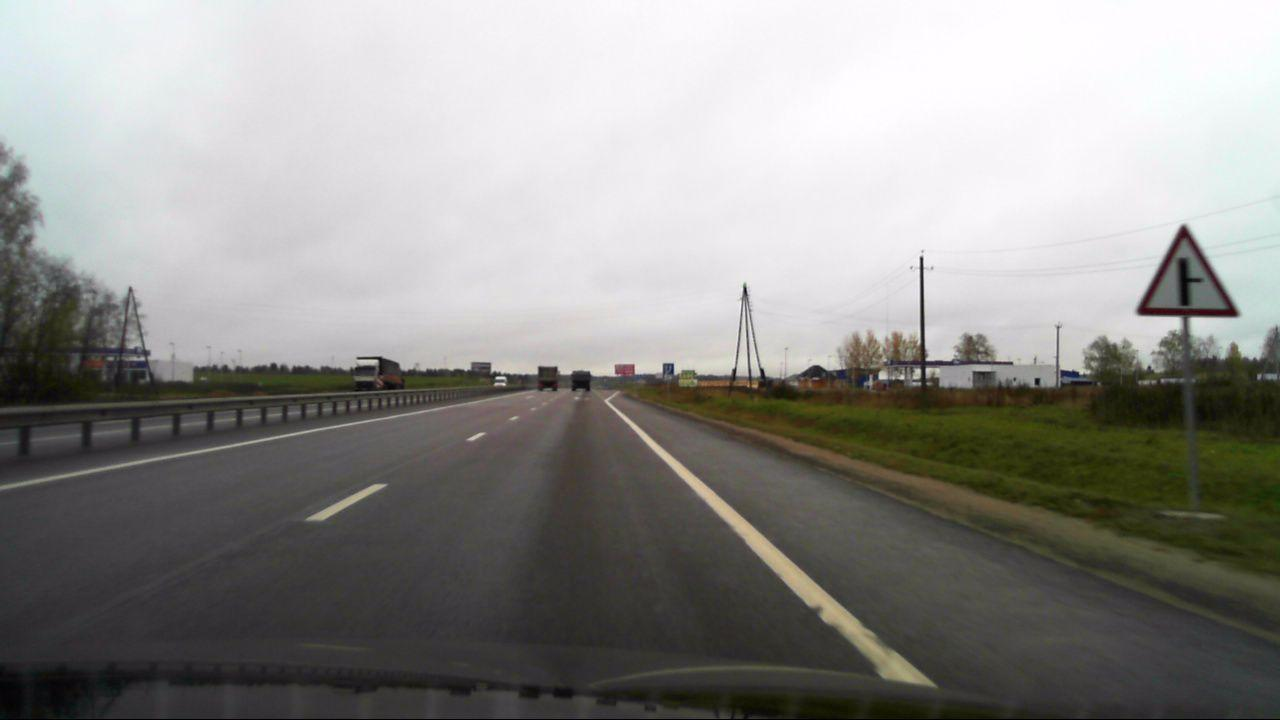2_3_2: (1135, 222, 1240, 318)
5_15_3: (663, 363, 674, 374)
